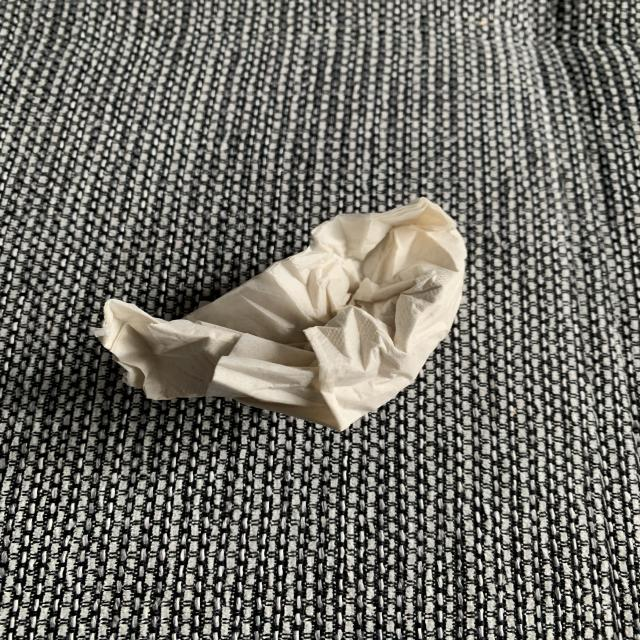kitchen paper: (89, 197, 485, 432)
